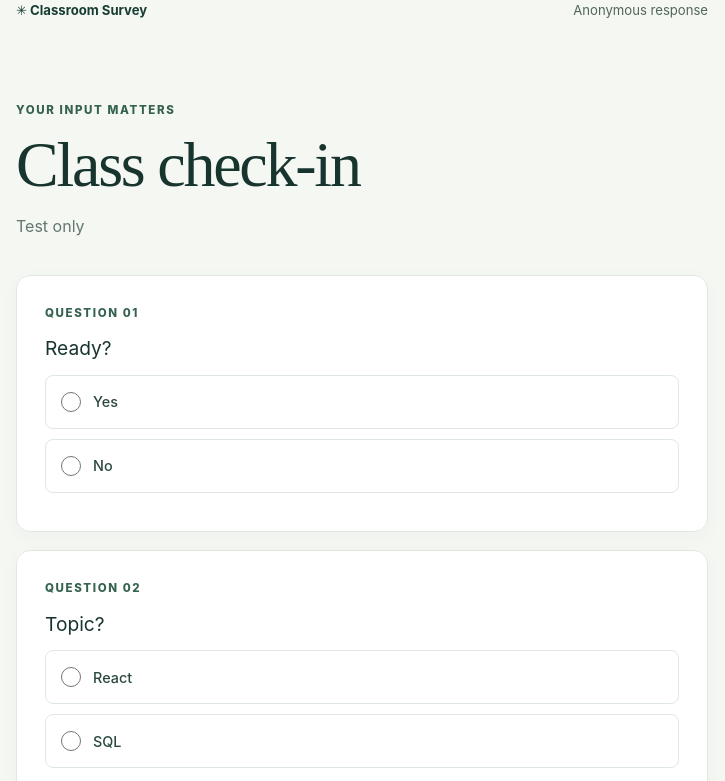
Scenario: student survey › shows a safe error for DUPLICATE_RESPONSE and enables retry
Click the radio button labelled "Yes": click(71, 402) [61,392,81,412]
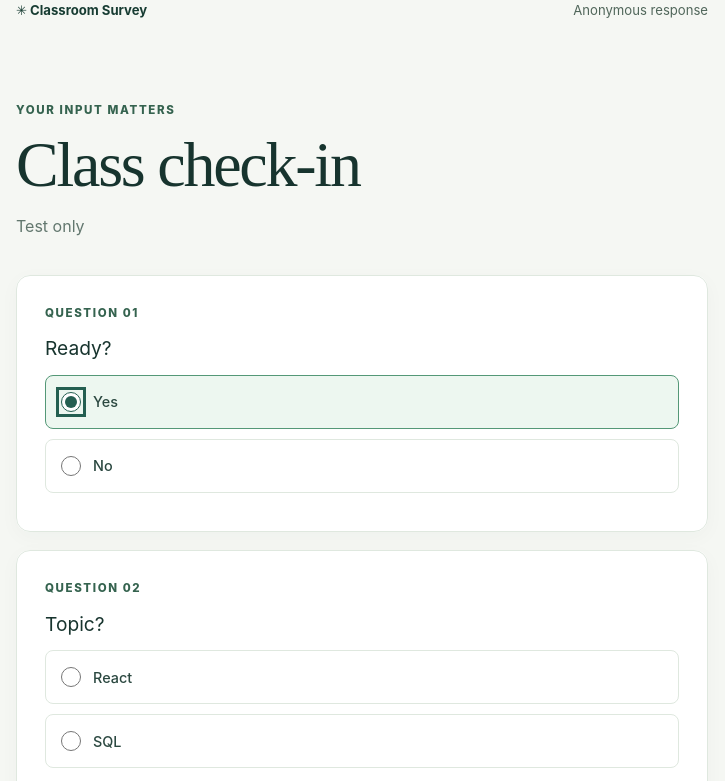
Click the radio button labelled "SQL": click(71, 741) [61,731,81,751]
(page scrolled)
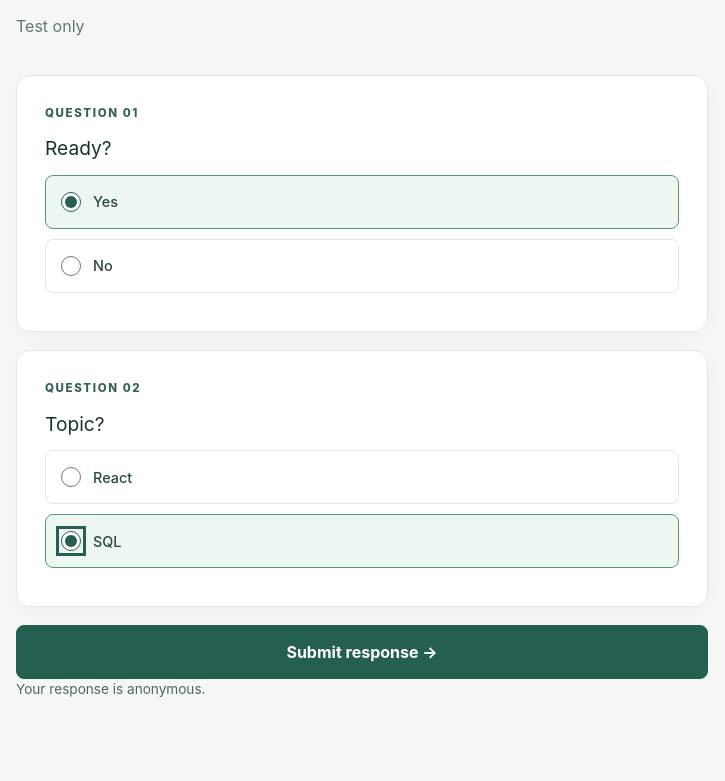
Click the button "Submit response →": click(362, 652) [16,625,708,679]
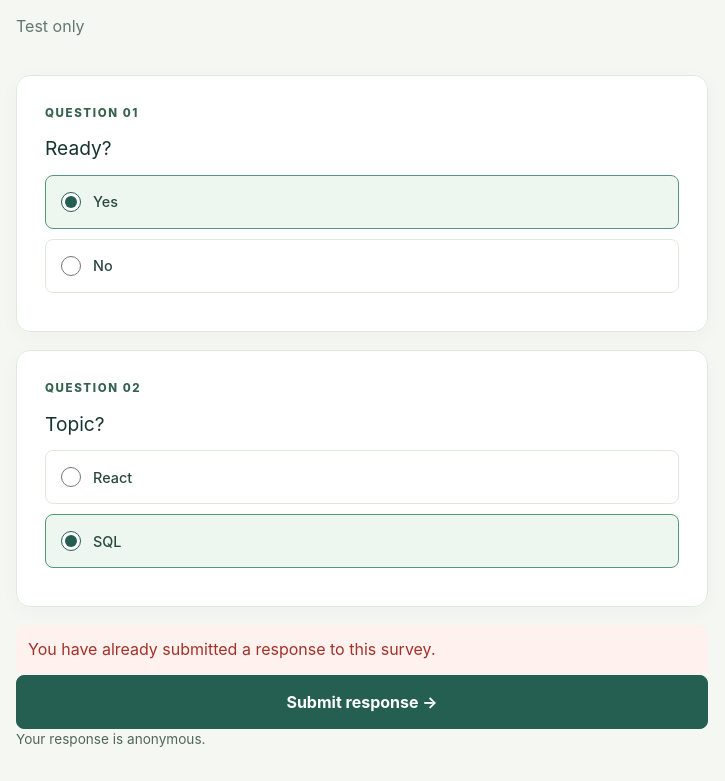
Expected: the button "Submit response →" is enabled, [16,675,708,729]
Result: the message shows "already submitted" at [28,639,436,659]
